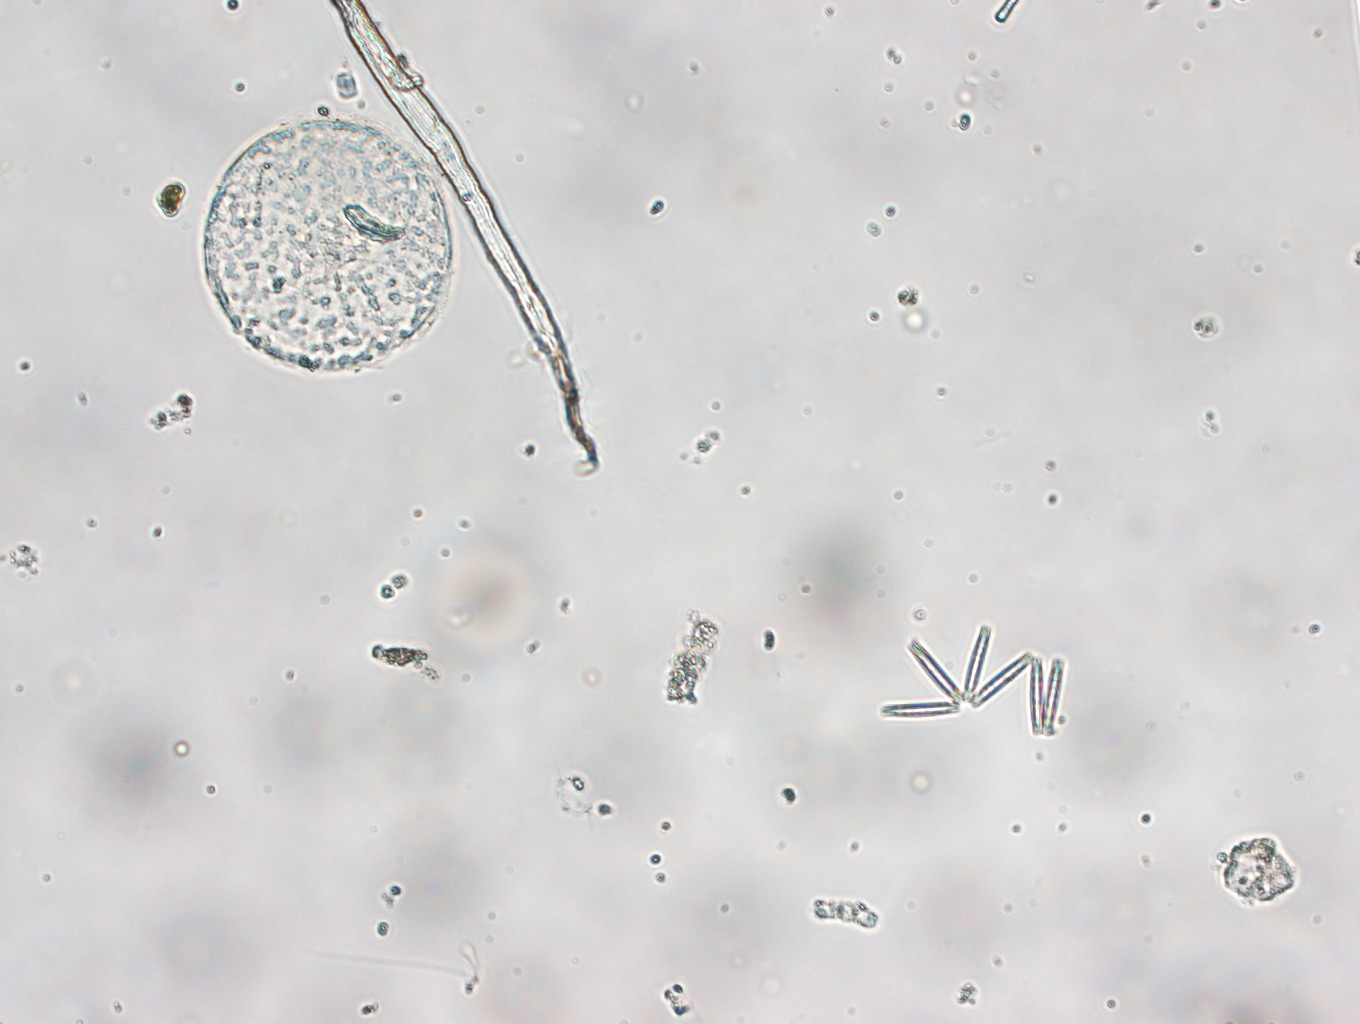coscinodiscus: (200, 116, 453, 374)
thalassionema nitzschioides: (881, 624, 1064, 736)
